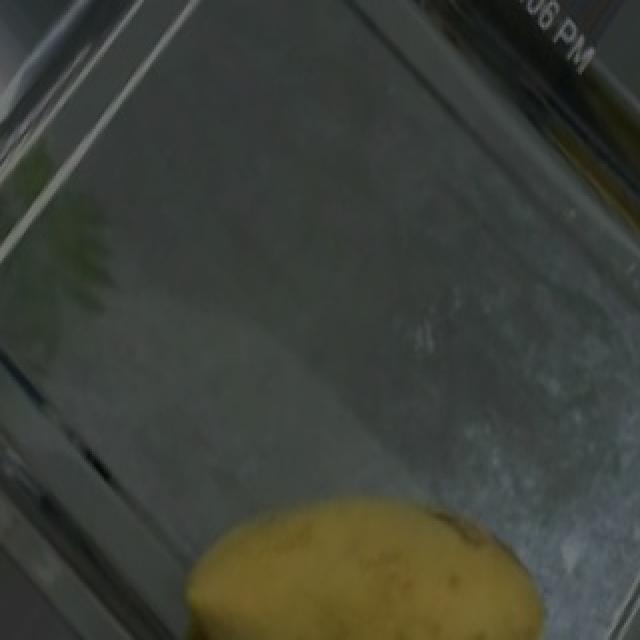fruit: (252, 449, 596, 640)
